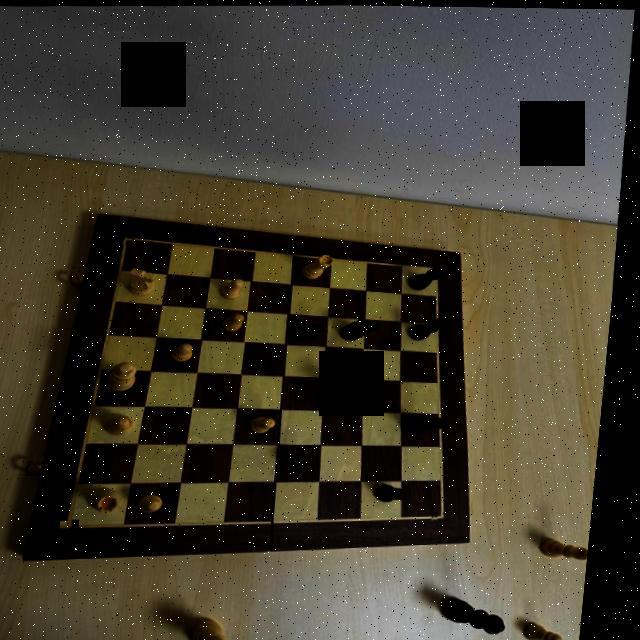chess-table-corners: (70, 520, 90, 532), (122, 232, 139, 244), (442, 511, 459, 519)
